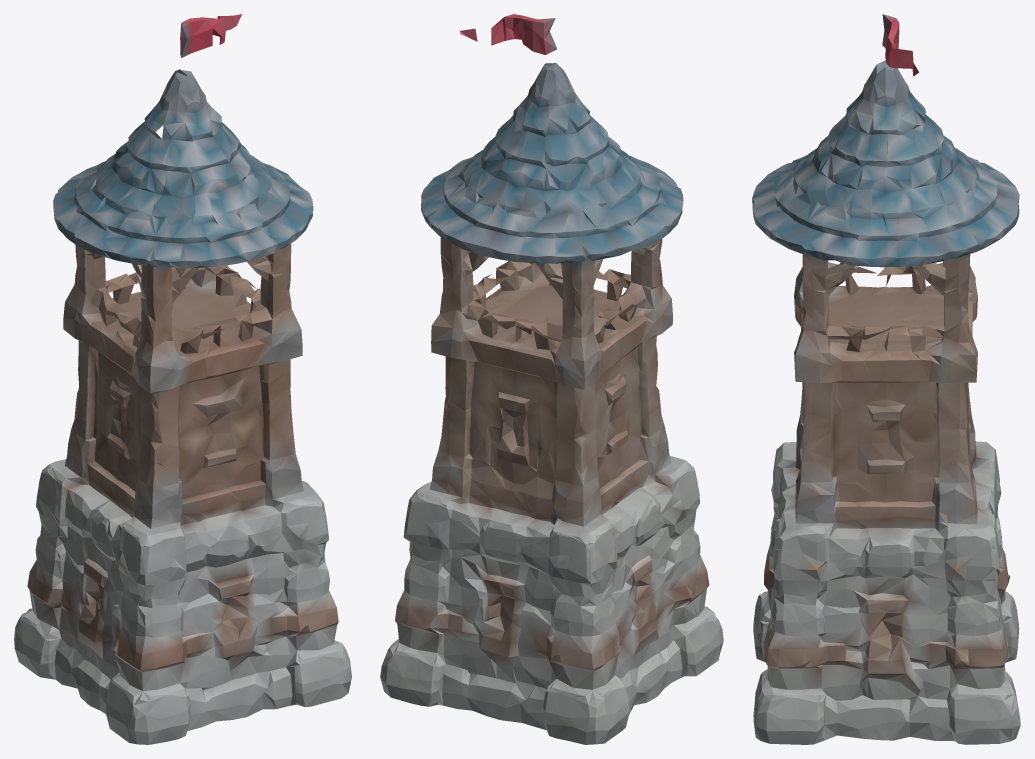
File: building_watchtower_lod2.glb
The picture shows the model from 3 angles, left to right: view 1: azimuth 30°, elevation 25°; view 2: azimuth 150°, elevation 25°; view 3: azimuth 270°, elevation 25°; orthographic projection. The views are drawn at different scales.
Parts seen in each view (by area): view 1: world; view 2: world; view 3: world.
Boxes of the visible parts, x1=… form: world: x1=14, y1=14, x2=351, y2=744; world: x1=380, y1=14, x2=723, y2=744; world: x1=752, y1=14, x2=1020, y2=744.
Size of the model in its own units: 0.677 by 1.9 by 0.6785.
